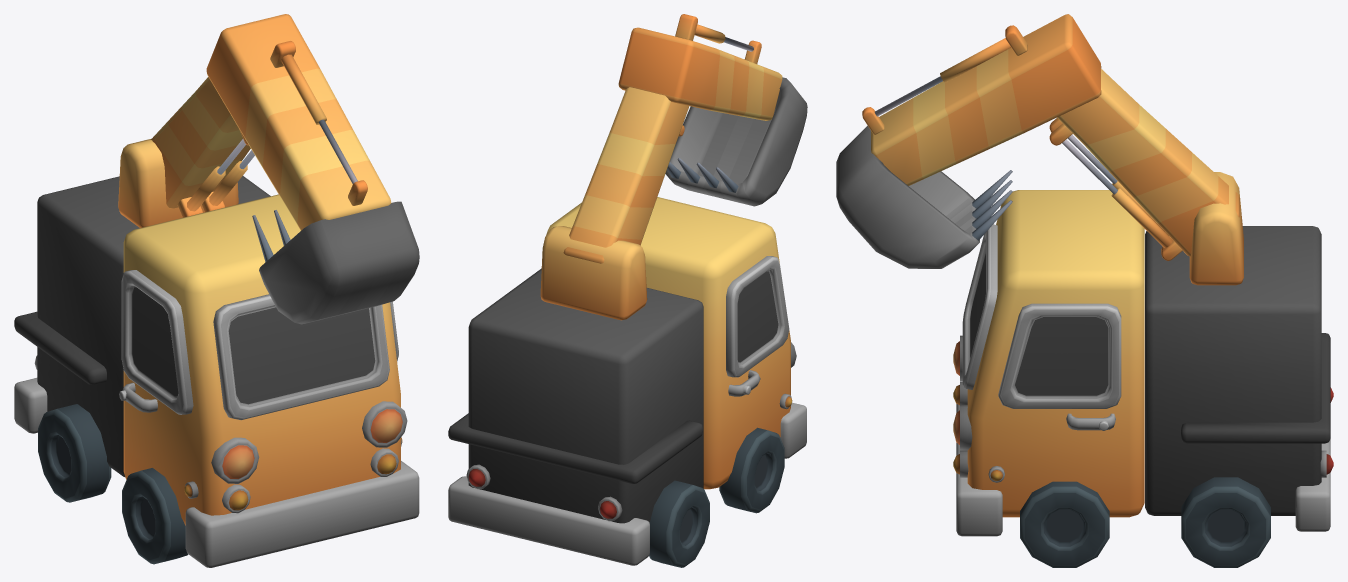
The model's file is mct_car_02.fbx.
3 views of the same model, side by side, from view 1: azimuth 30°, elevation 25°; view 2: azimuth 150°, elevation 25°; view 3: azimuth 270°, elevation 25° (orthographic). The views are drawn at different scales.
Visible parts, largest first — view 1: mct_car_02, mct_car_02_w; view 2: mct_car_02, mct_car_02_w; view 3: mct_car_02, mct_car_02_w.
Part boxes in pixels (<box>): mct_car_02: <box>14,14,419,567</box>; mct_car_02_w: <box>38,404,188,564</box>; mct_car_02: <box>448,14,807,565</box>; mct_car_02_w: <box>649,427,784,567</box>; mct_car_02: <box>836,14,1333,536</box>; mct_car_02_w: <box>1020,477,1270,567</box>.
Bounding box in the file's own units: 130 × 272 × 251.
